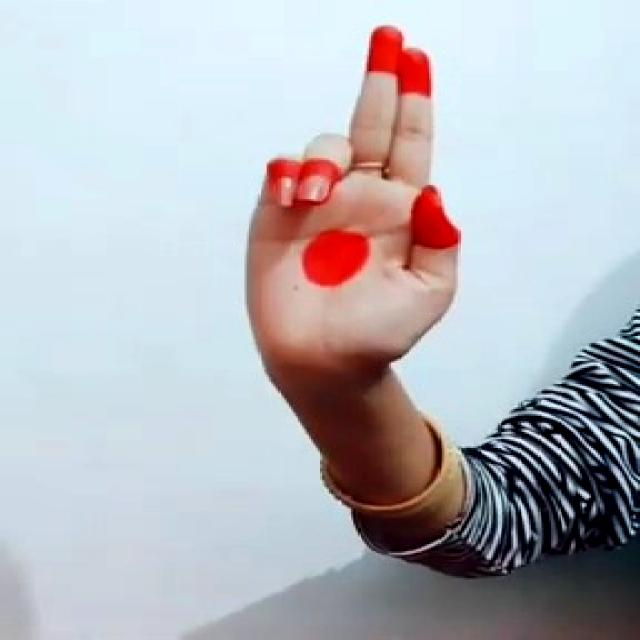Ardhapataka: (200, 16, 493, 393)
bangle: (294, 406, 483, 522)
